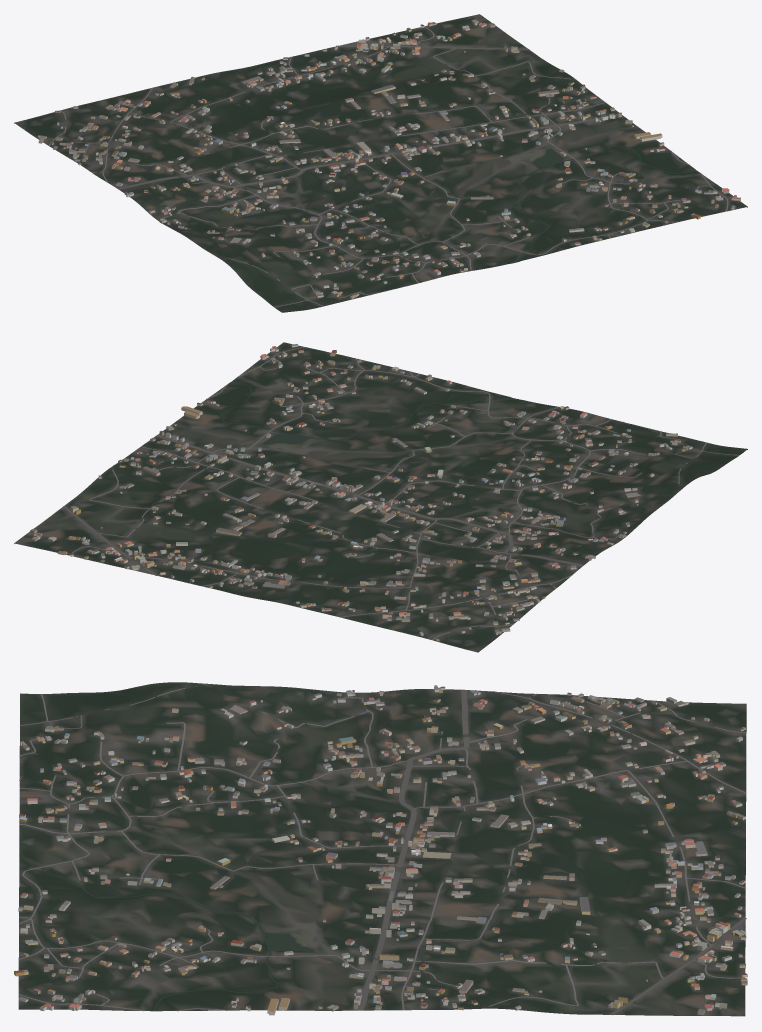
3 renders of one model, top to bottom at view 1: azimuth 30°, elevation 25°; view 2: azimuth 150°, elevation 25°; view 3: azimuth 270°, elevation 25°, orthographic. The views are drawn at different scales.
Parts seen in each view (by area): view 1: ground, buildings, roads, water; view 2: ground, buildings, roads, water; view 3: ground, buildings, roads, water.
Boxes of the visible parts, left/top/right/bottom form: ground: left=14, top=14, right=747, bottom=312; buildings: left=38, top=19, right=740, bottom=299; roads: left=48, top=26, right=728, bottom=307; water: left=511, top=146, right=697, bottom=263; ground: left=14, top=342, right=747, bottom=652; buildings: left=30, top=344, right=692, bottom=641; roads: left=63, top=347, right=739, bottom=640; water: left=221, top=380, right=518, bottom=444; ground: left=18, top=682, right=746, bottom=1016; buildings: left=14, top=685, right=747, bottom=1015; roads: left=18, top=683, right=746, bottom=1015; water: left=19, top=853, right=313, bottom=1011.
Bounding box in the file's own units: 1430 × 60.6 × 1416.
